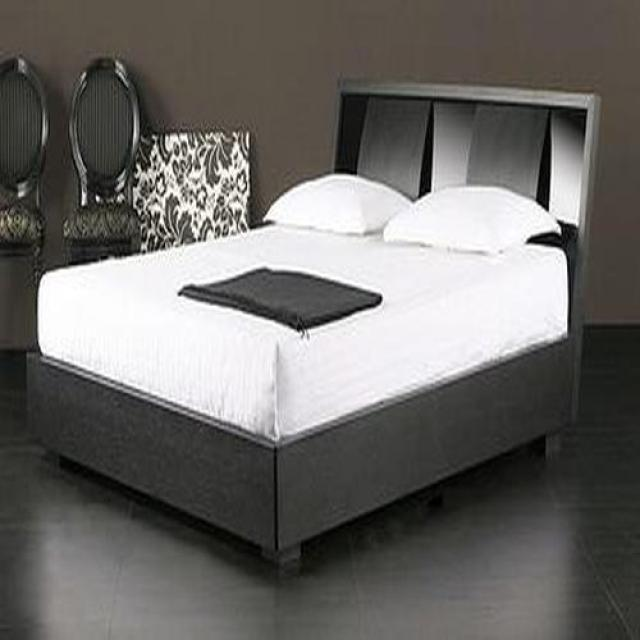bed: (26, 83, 600, 573)
